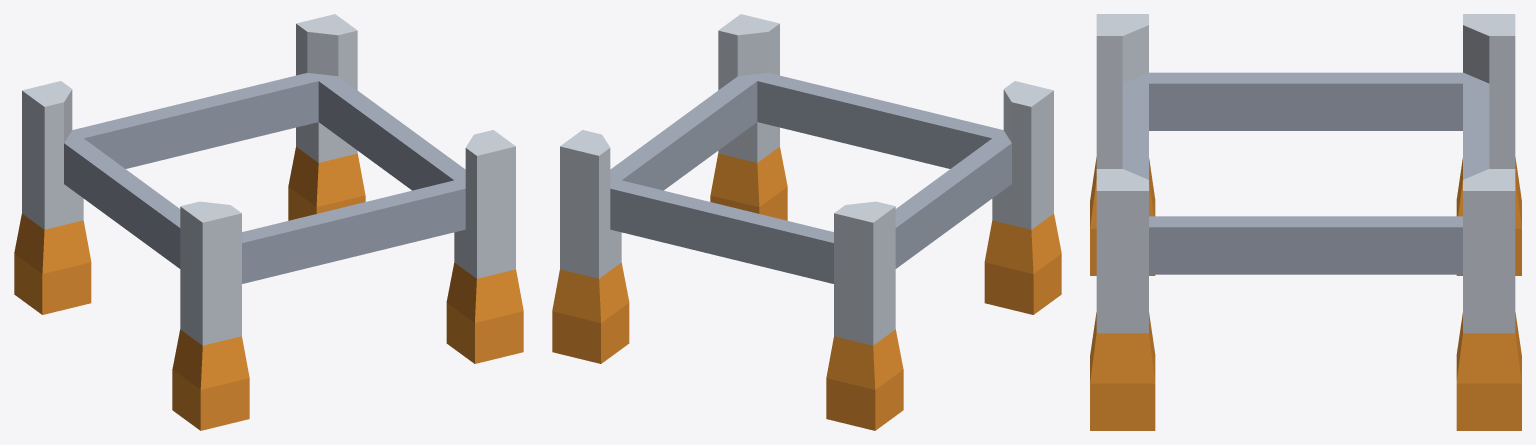
The model's file is supports_low.obj.
The picture shows the model from 3 angles, left to right: view 1: azimuth 30°, elevation 25°; view 2: azimuth 150°, elevation 25°; view 3: azimuth 270°, elevation 25°; orthographic projection. The views are drawn at different scales.
Parts seen in each view (by area): view 1: supports_low; view 2: supports_low; view 3: supports_low.
Boxes of the visible parts, bbox=[...] form: supports_low: bbox=[14, 14, 523, 430]; supports_low: bbox=[552, 14, 1061, 430]; supports_low: bbox=[1090, 14, 1521, 430].
Size of the model in its own units: 0.825 by 0.5 by 0.825.
